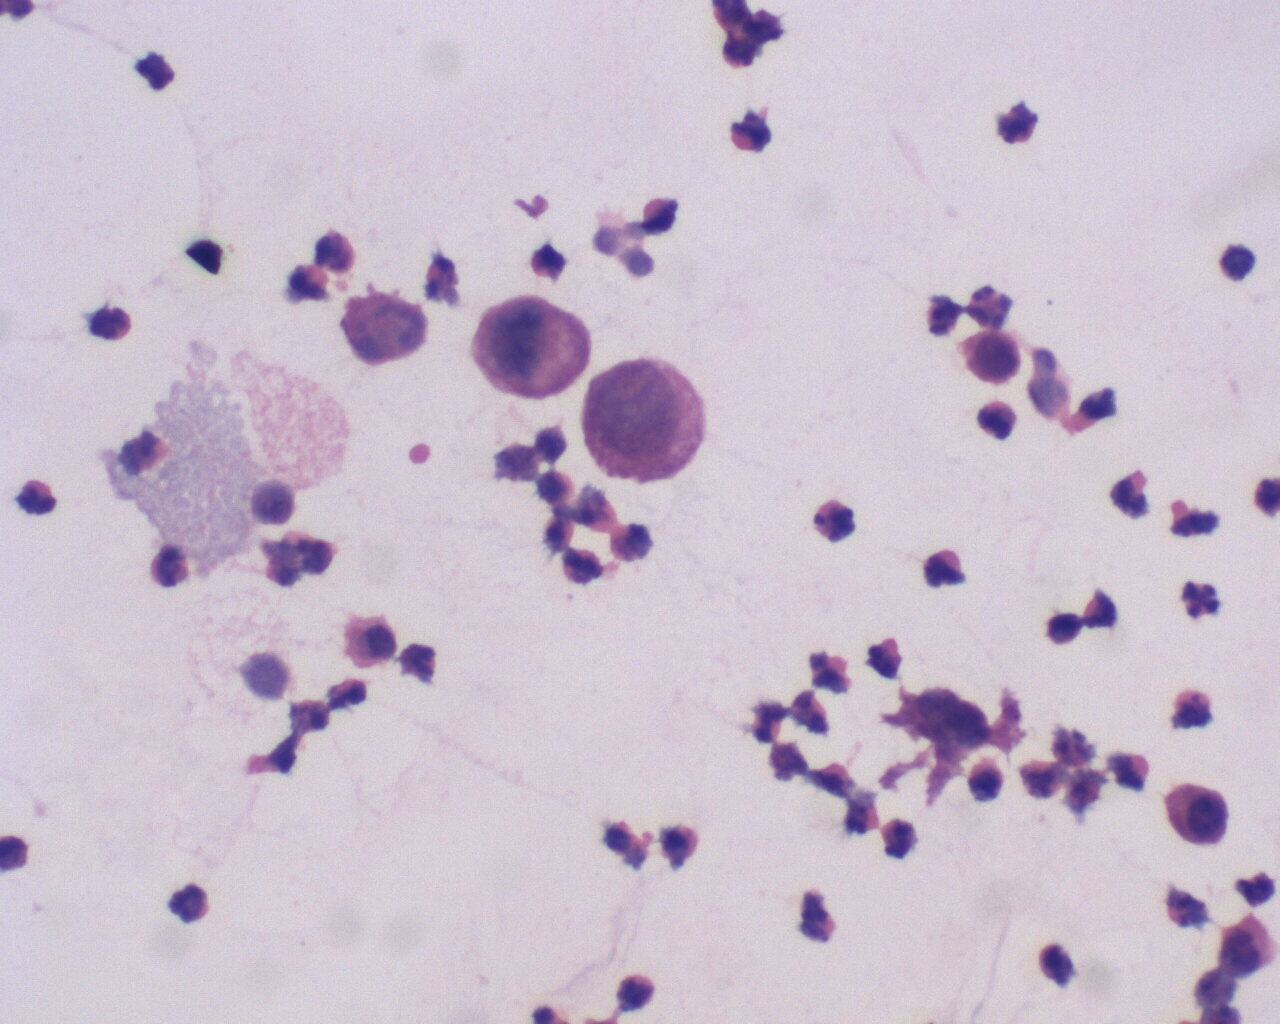ab: (583, 354, 718, 486), (473, 293, 595, 409)
meso: (1159, 779, 1231, 850)
neutro: (164, 877, 220, 932), (971, 389, 1026, 443), (281, 258, 340, 307), (920, 543, 973, 591), (1177, 573, 1228, 622), (862, 633, 908, 676)
